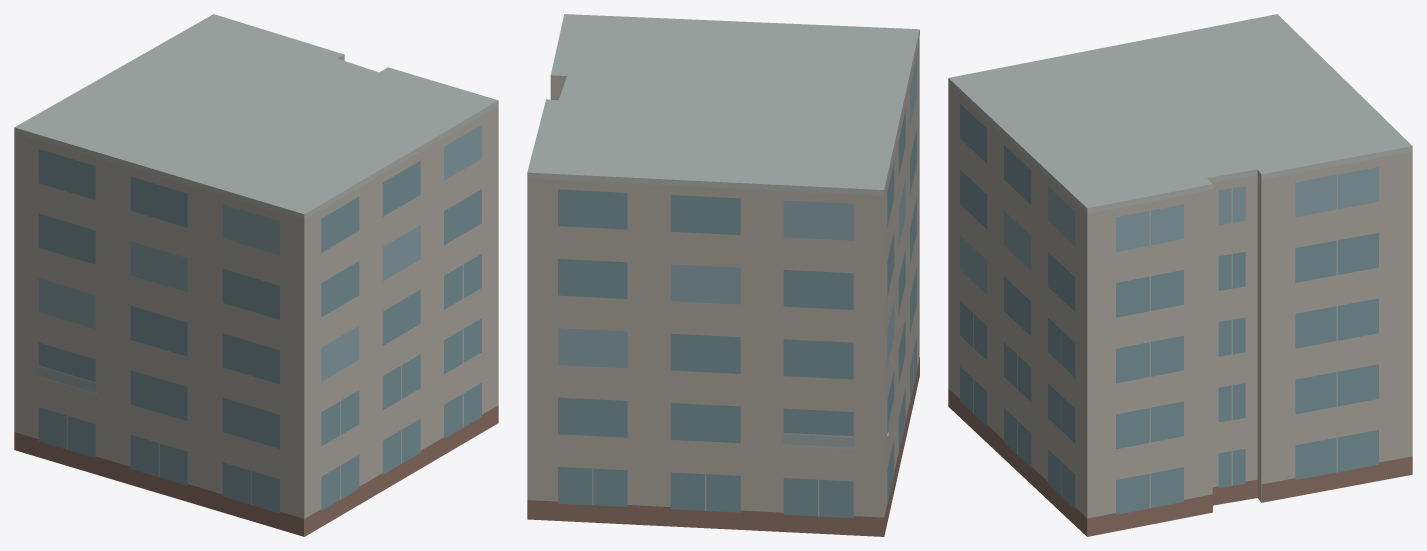
The model's file is survey-upis-32736665.glb.
The picture shows the model from 3 angles, left to right: view 1: azimuth 30°, elevation 25°; view 2: azimuth 150°, elevation 25°; view 3: azimuth 270°, elevation 25°; orthographic projection. The views are drawn at different scales.
Parts seen in each view (by area): view 1: survey-upis-32736665.tmp; view 2: survey-upis-32736665.tmp; view 3: survey-upis-32736665.tmp.
Part boxes in pixels (x1,y1,x2,y2): survey-upis-32736665.tmp: (14,14,498,536); survey-upis-32736665.tmp: (527,14,919,536); survey-upis-32736665.tmp: (948,14,1412,536).
Size of the model in its own units: 18.4 by 14.5 by 18.58.
